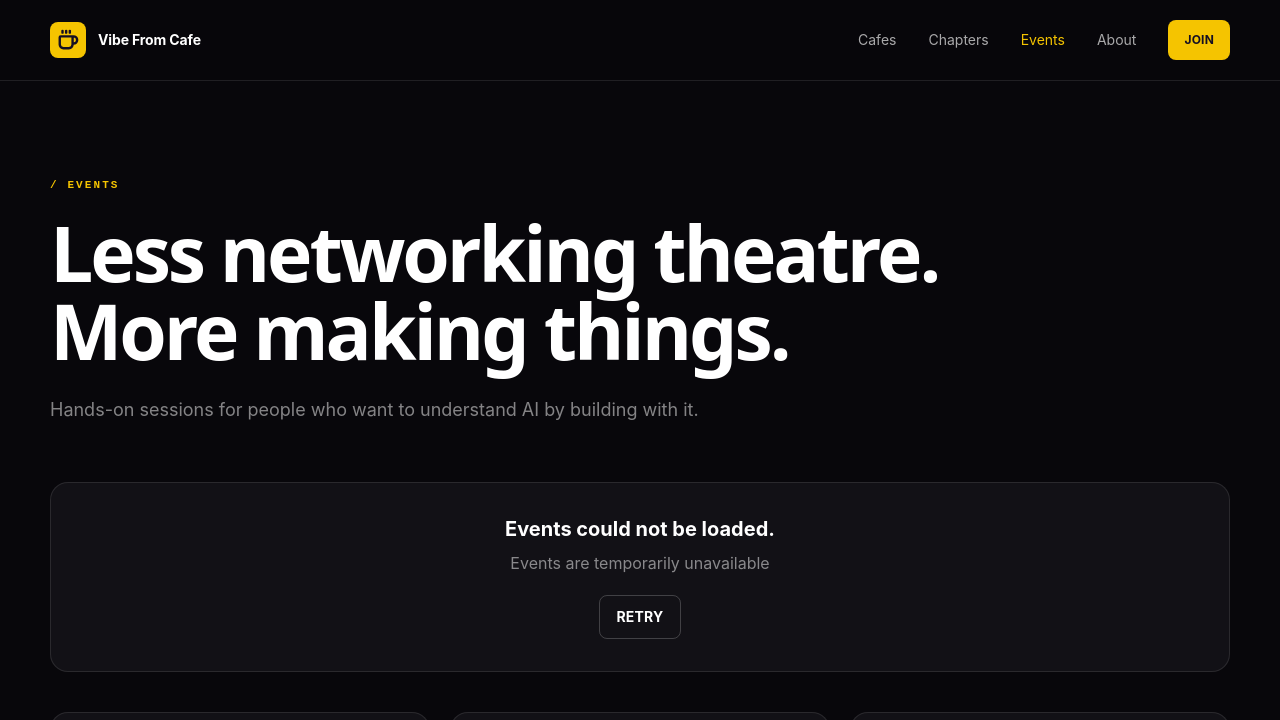
Test: events page states › reports API failures and retries instead of substituting seed data
The image size is (1280, 720).
Check: the message shows "Events could not be loaded.", box [505,517,775,541]
Click the button "Retry".
click(640, 617)  # box [600,595,681,639]
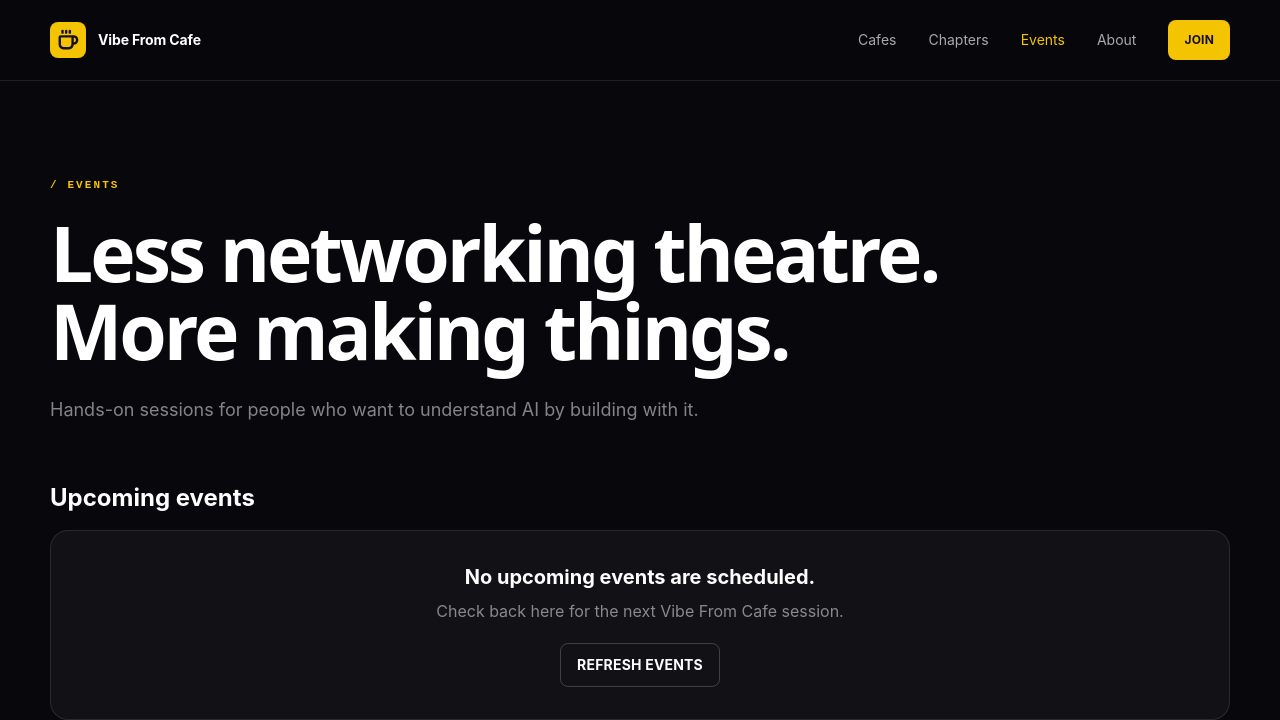
Check: the heading "No upcoming events are scheduled." is shown, box [465,565,815,589]
